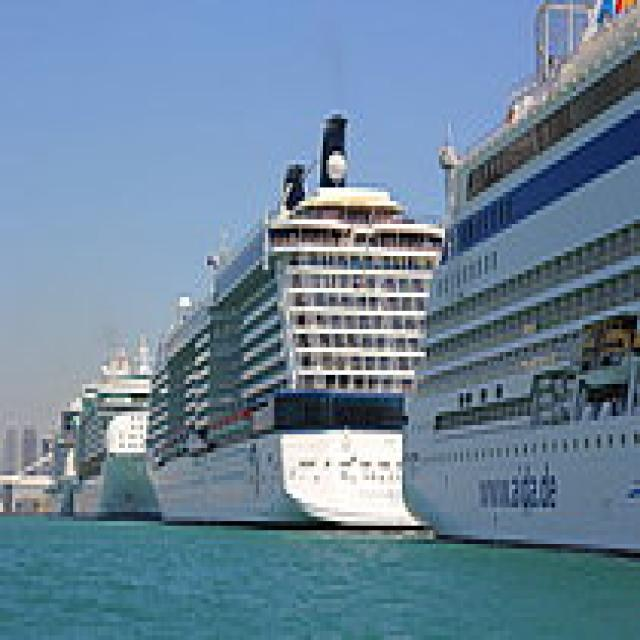Ship: (135, 111, 489, 541)
